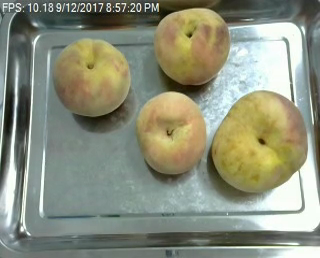Peach: (211, 88, 308, 193), (52, 37, 130, 117), (153, 7, 230, 84), (136, 91, 205, 174)
